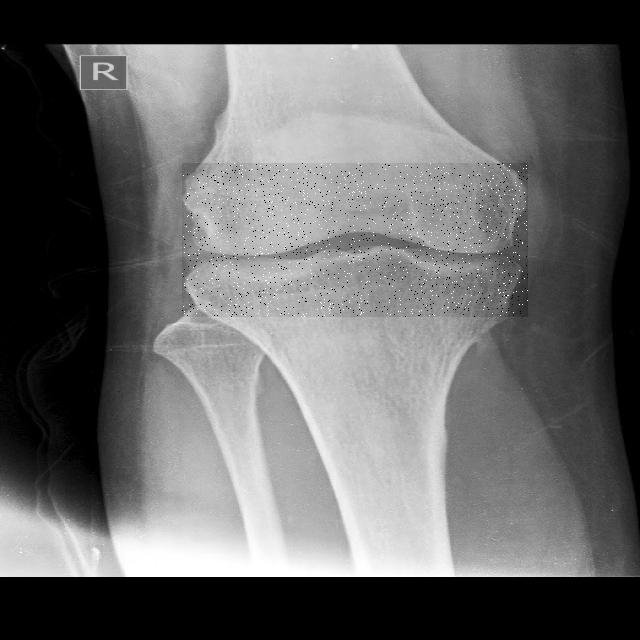normal: (182, 163, 528, 317)
